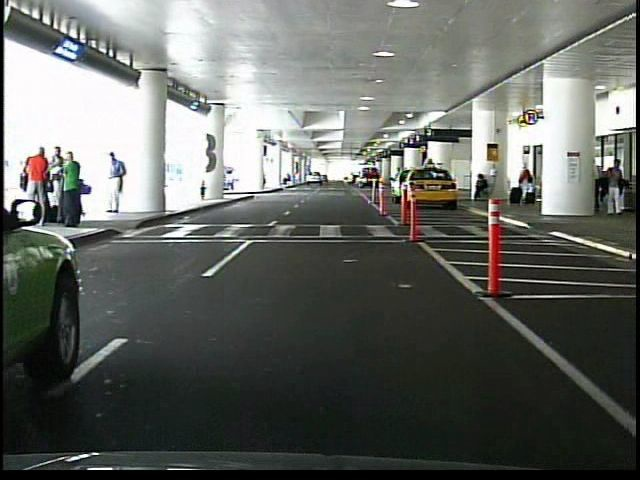person: (62, 150, 87, 229), (104, 151, 129, 216), (600, 155, 626, 217), (31, 147, 53, 211), (54, 144, 69, 212), (518, 160, 535, 206), (472, 171, 491, 201)
